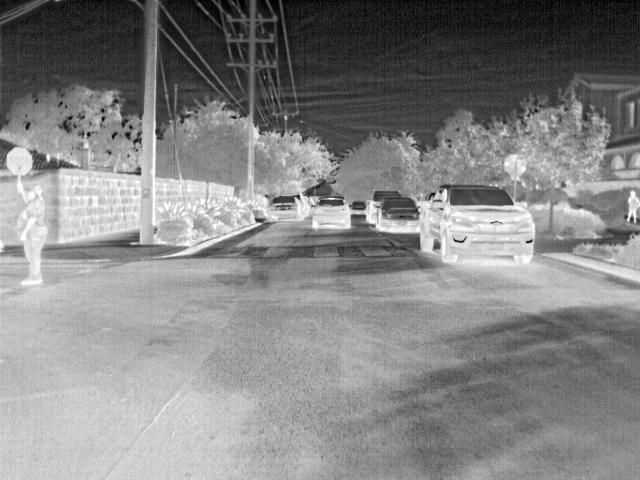car: (419, 183, 535, 264), (376, 195, 421, 232), (367, 189, 404, 223), (313, 196, 351, 228), (268, 195, 307, 220), (300, 193, 315, 212), (351, 199, 369, 213)
person: (18, 185, 48, 285), (626, 188, 638, 224)
